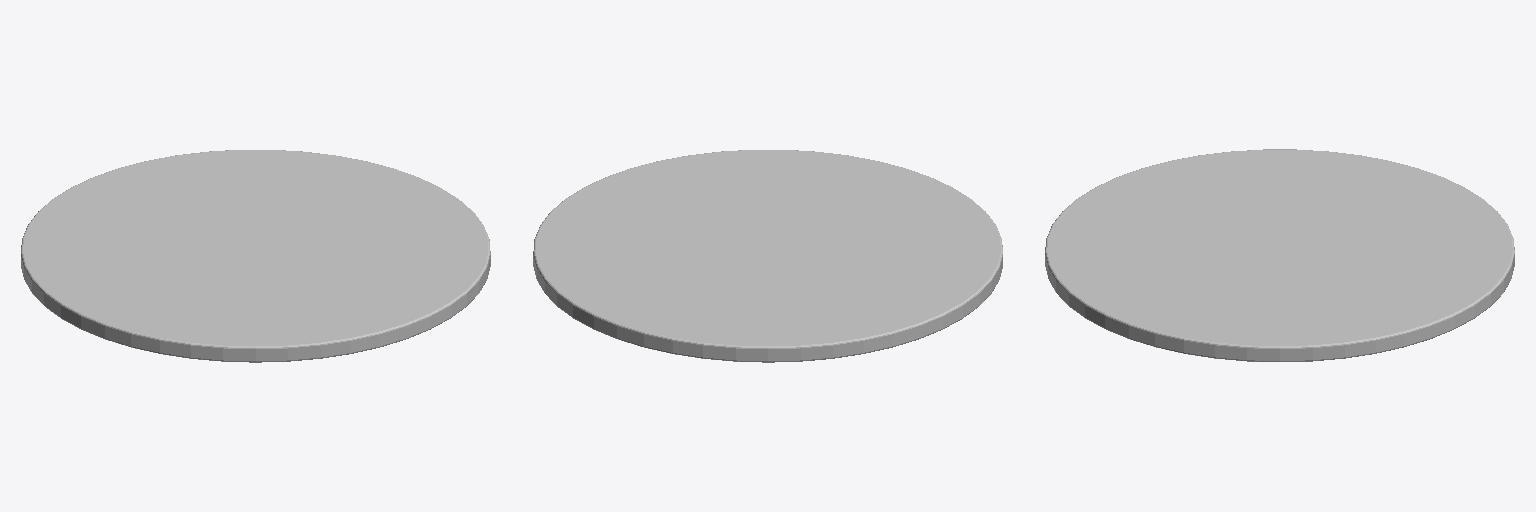
Rendered from dime.obj.
The picture shows the model from 3 angles: view 1: azimuth 30°, elevation 25°; view 2: azimuth 150°, elevation 25°; view 3: azimuth 270°, elevation 25°; orthographic projection.
Visible parts, largest first — view 1: dime; view 2: dime; view 3: dime.
Boxes of the visible parts, x1,y1,x2,y2 form: dime: [21, 150, 490, 362]; dime: [533, 150, 1002, 362]; dime: [1045, 149, 1514, 361].
Bounding box in the file's own units: 0.9389 × 0.0353 × 0.9394.